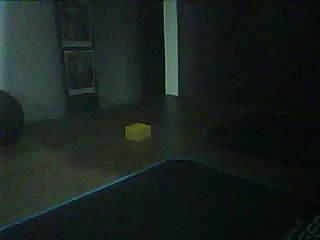lego: (125, 122, 152, 141)
